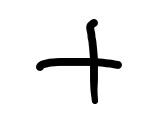plus: (37, 19, 123, 105)
